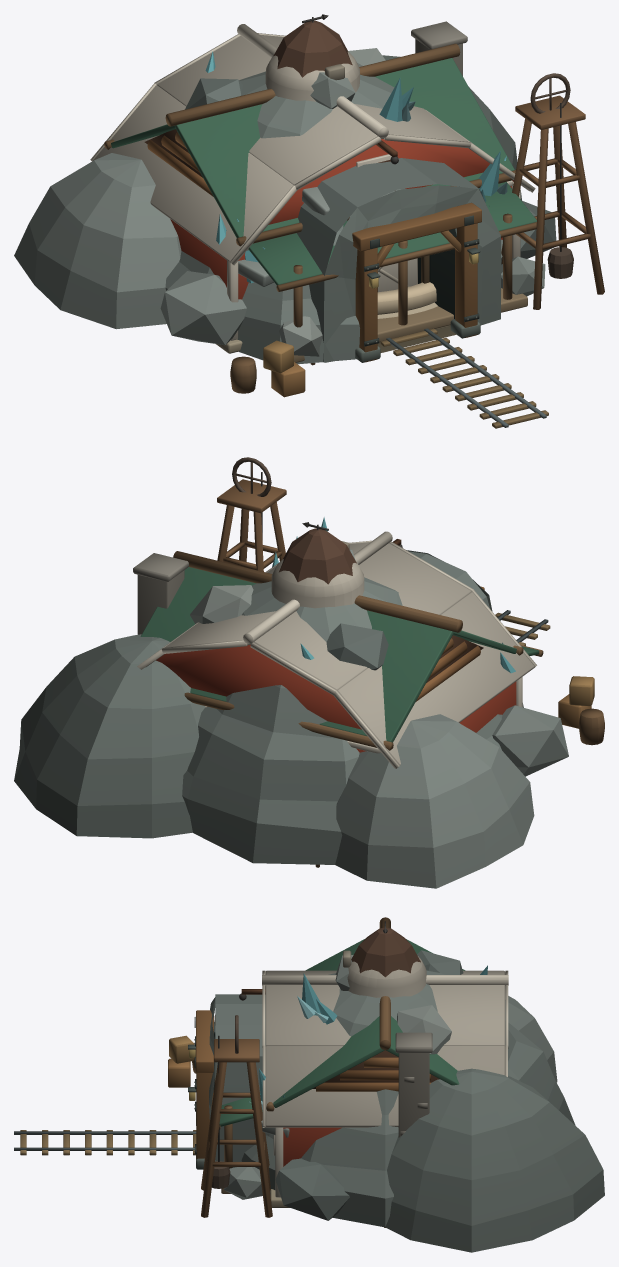
Rendered from Ville_Public_Kit.glb.
3 views of the same model, one above another, from view 1: azimuth 30°, elevation 25°; view 2: azimuth 150°, elevation 25°; view 3: azimuth 270°, elevation 25° (orthographic). The views are drawn at different scales.
Parts seen in each view (by area): view 1: Ville_Mine, Ville_Barn, Ville_Lodge, Ville_Windmill, Ville_Silo, Ville_Fountain; view 2: Ville_Mine, Ville_Barn, Ville_Lodge, Ville_Silo, Ville_Windmill; view 3: Ville_Mine, Ville_Barn, Ville_Lodge, Ville_Silo, Ville_Windmill.
Part boxes in pixels (<box>): Ville_Mine: <box>14,48,604,428</box>; Ville_Barn: <box>90,14,535,353</box>; Ville_Lodge: <box>104,21,536,362</box>; Ville_Windmill: <box>273,20,352,77</box>; Ville_Silo: <box>265,52,359,101</box>; Ville_Fountain: <box>377,282,437,318</box>; Ville_Mine: <box>14,457,604,888</box>; Ville_Barn: <box>137,522,536,768</box>; Ville_Lodge: <box>133,551,543,750</box>; Ville_Silo: <box>271,541,364,608</box>; Ville_Windmill: <box>279,528,356,584</box>; Ville_Mine: <box>14,950,604,1252</box>; Ville_Barn: <box>239,921,508,1207</box>; Ville_Lodge: <box>214,917,465,1193</box>; Ville_Silo: <box>343,950,426,997</box>; Ville_Windmill: <box>351,927,420,977</box>.
Size of the model in its own units: 20.33 by 13.95 by 24.66.
